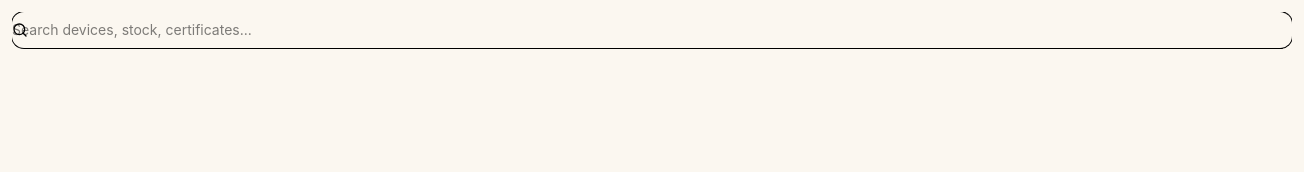
GlobalSearch — A-22 reset on a short query › closes the dropdown when the query is cut below two characters
Type "pump" into the field named "Global search".
click(652, 30); type("pump")  # box [12,12,1292,48]
Wait 350 ms
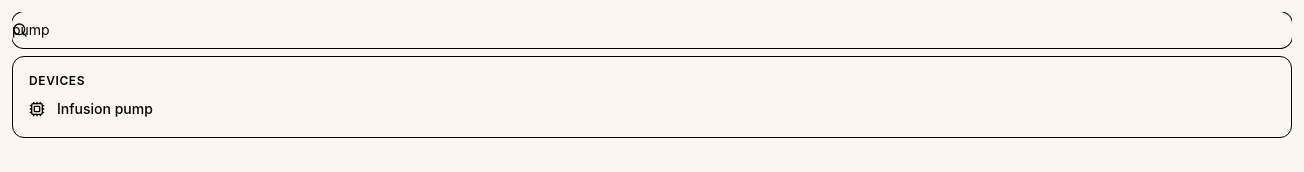
Expected: the text "Infusion pump" is shown, [57,99,153,119]
Replace the text in the field named "Global search" with "p" at [652, 30], box [12,12,1292,48]
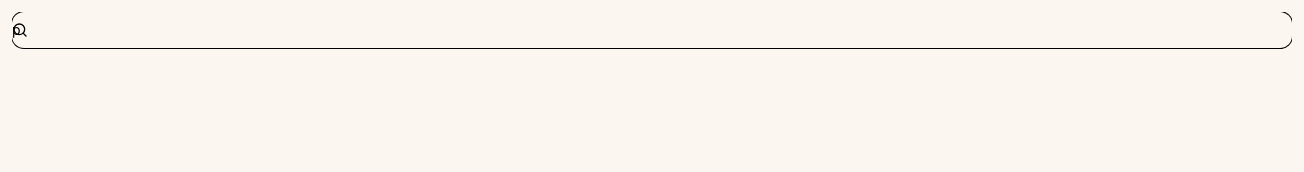
Expected: the button "Infusion pump" is gone
